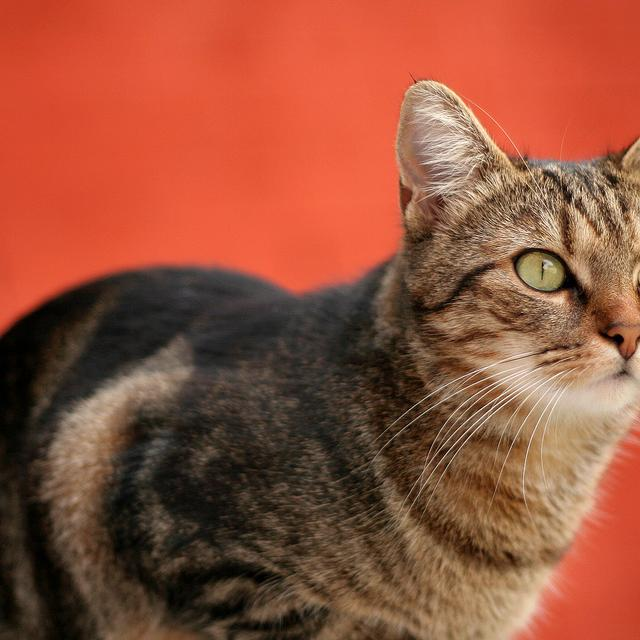animals: (411, 80, 640, 356)
